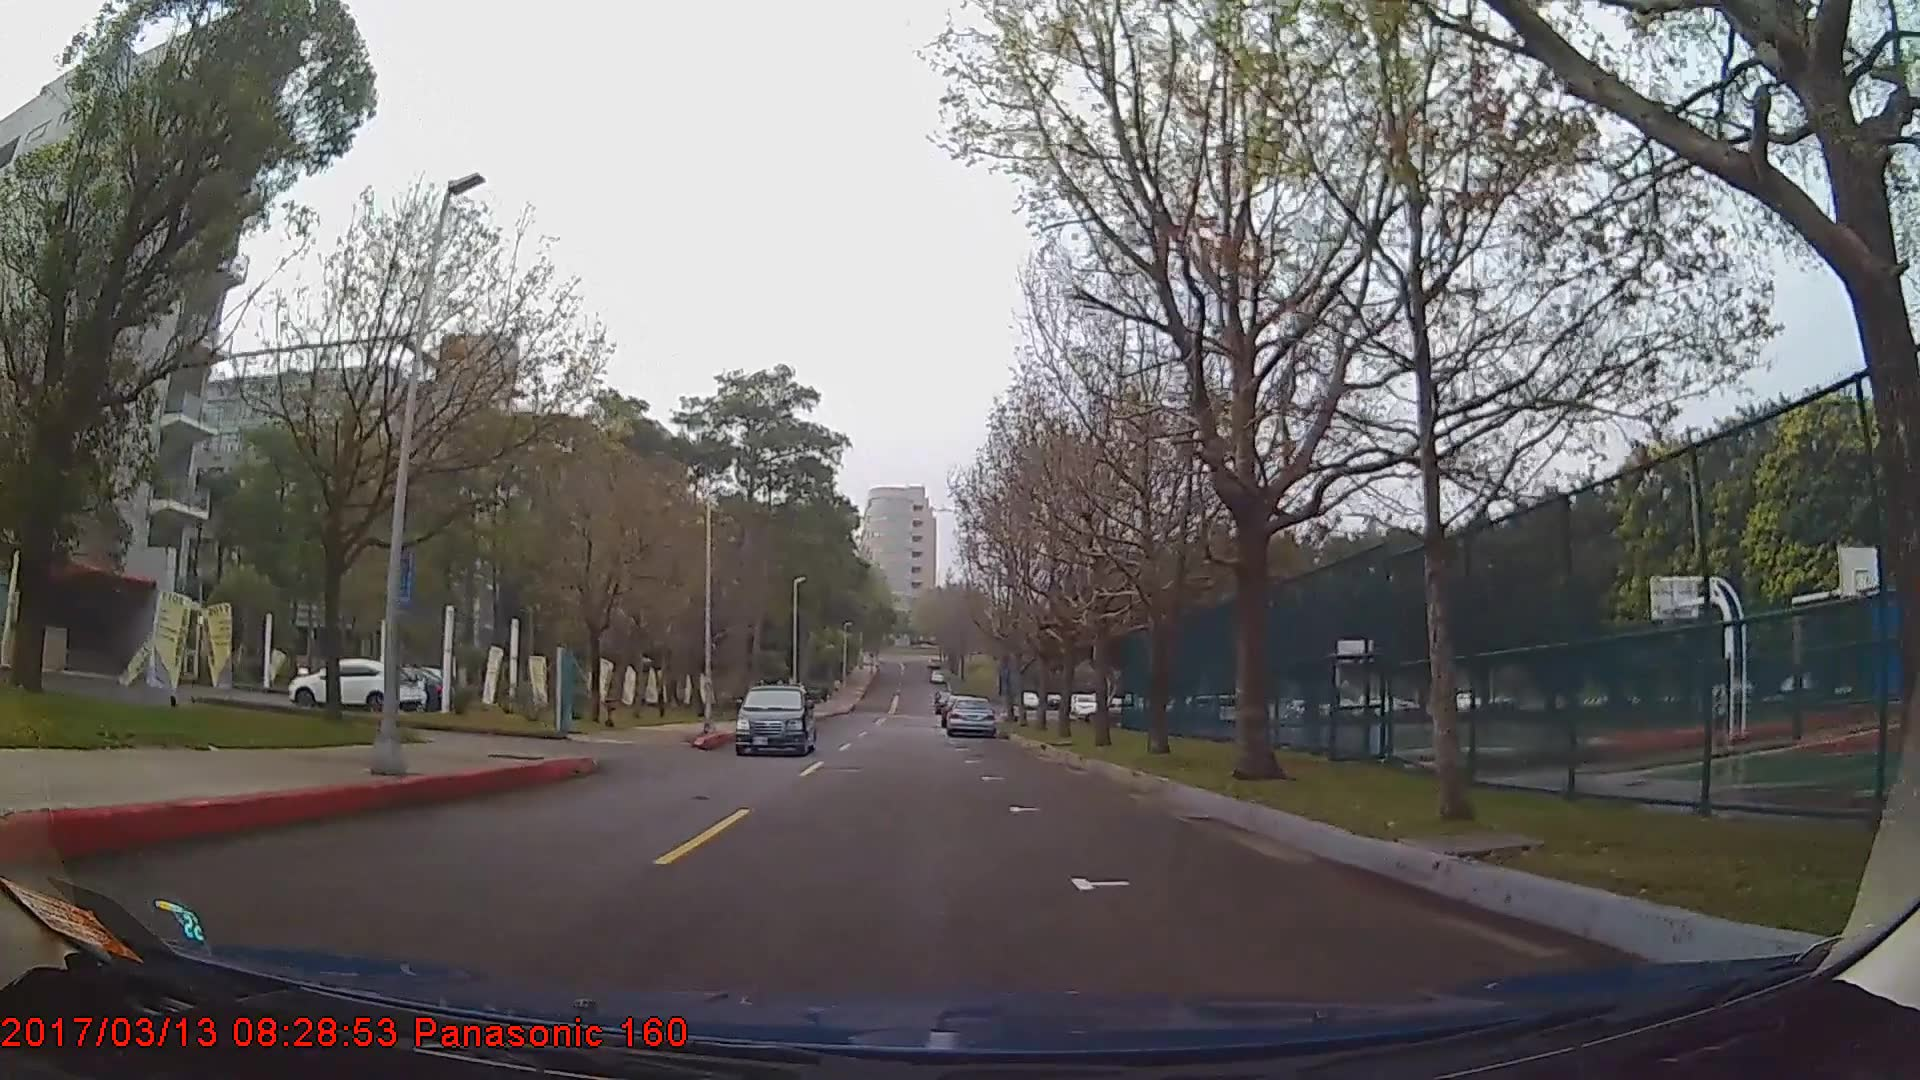vehicle: (286, 654, 425, 712), (733, 684, 818, 760), (945, 698, 996, 742)
